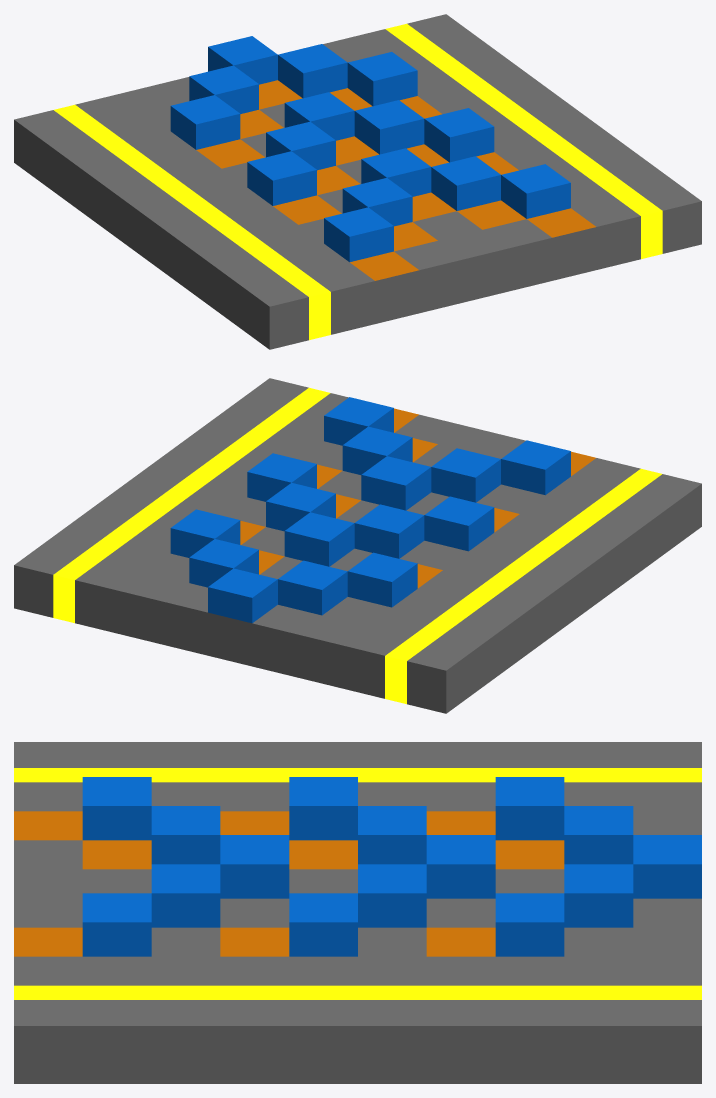
Rendered from SpeedBoost.fbx.
The picture shows the model from 3 angles, top to bottom: view 1: azimuth 30°, elevation 25°; view 2: azimuth 150°, elevation 25°; view 3: azimuth 270°, elevation 25°; orthographic projection. The views are drawn at different scales.
Parts seen in each view (by area): view 1: SpeedBoost; view 2: SpeedBoost; view 3: SpeedBoost.
Part boxes in pixels (x1=…): SpeedBoost: x1=14, y1=14, x2=701, y2=349; SpeedBoost: x1=14, y1=378, x2=701, y2=713; SpeedBoost: x1=14, y1=742, x2=701, y2=1083.
Size of the model in its own units: 88.73 by 13.46 by 90.91.
